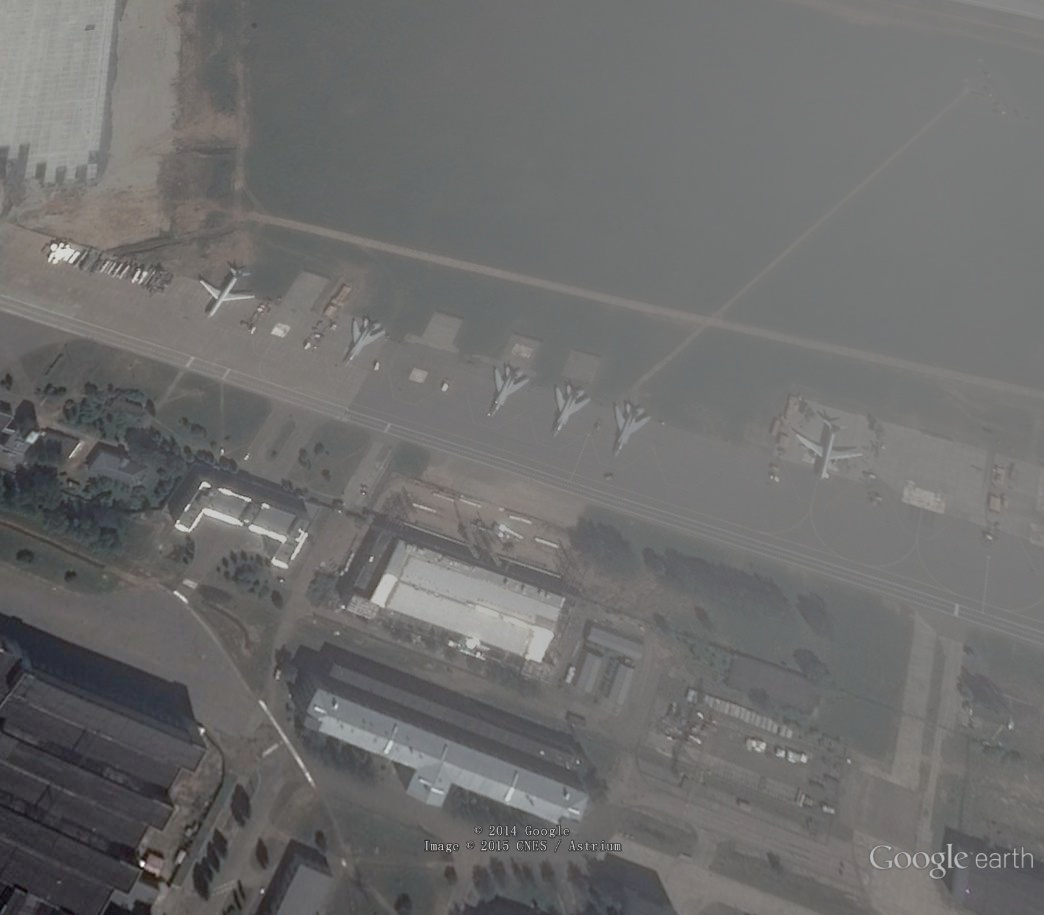aircraft: (793, 414, 867, 483), (197, 264, 261, 321), (342, 313, 392, 372), (608, 400, 655, 462), (487, 362, 535, 422), (550, 380, 593, 440)
